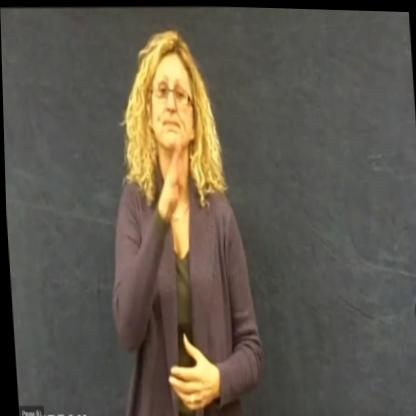Talk: (95, 20, 264, 416)
